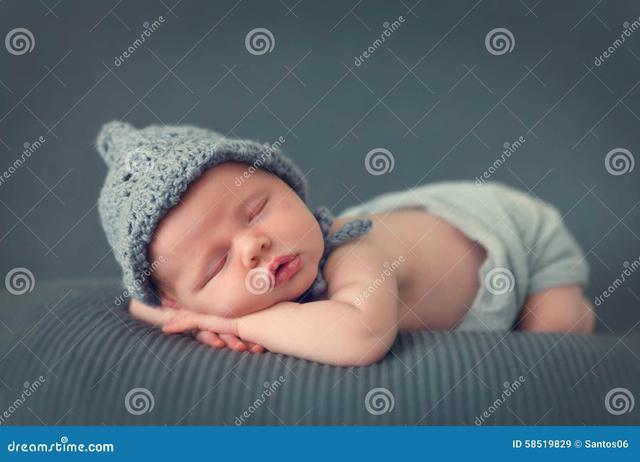sleep: (148, 161, 324, 317)
